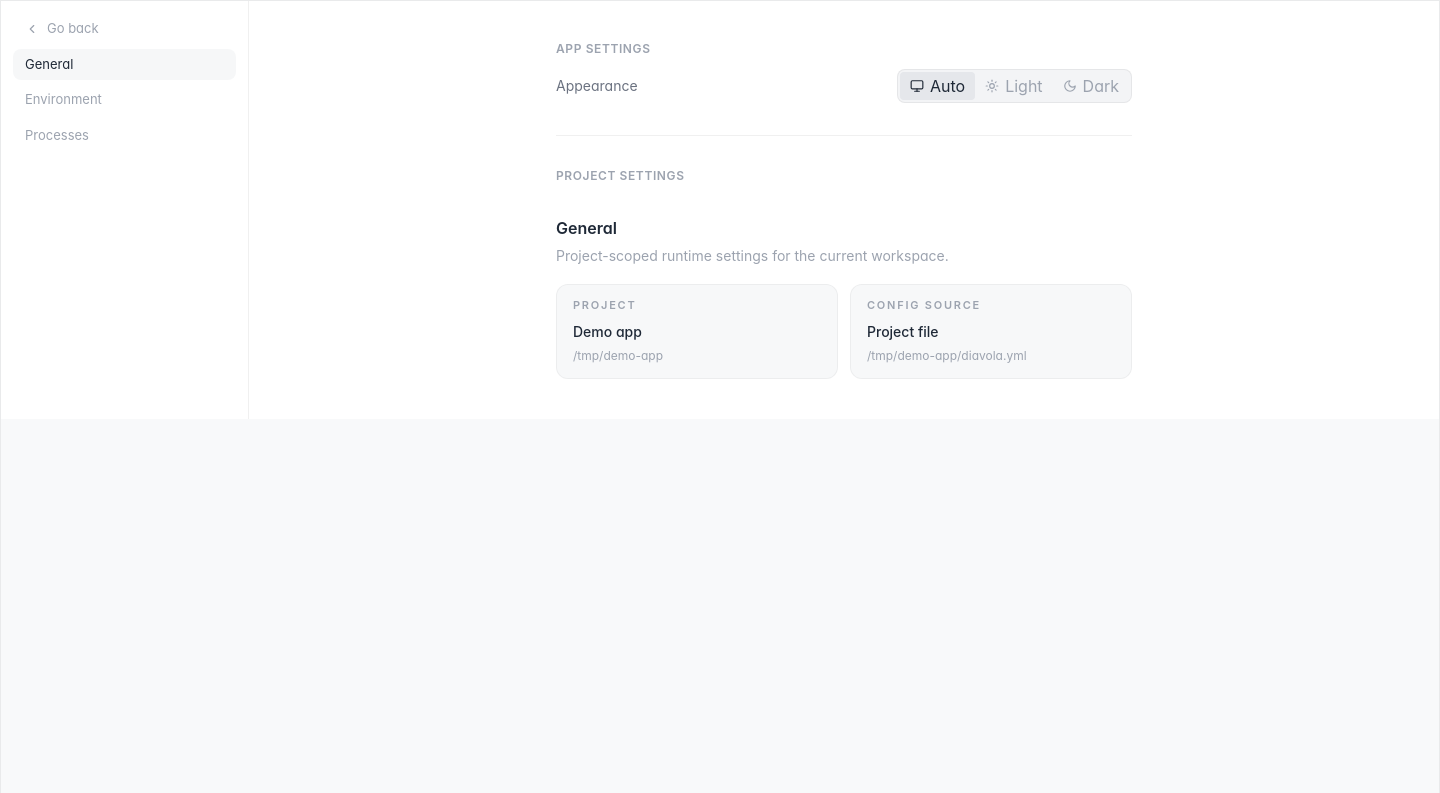
ConfigEditor › does not auto-save invalid runtime config changes
Expected: the heading "General" is shown, [556,218,617,238]
Click the link "Processes" at (57, 134), box [25,126,89,142]
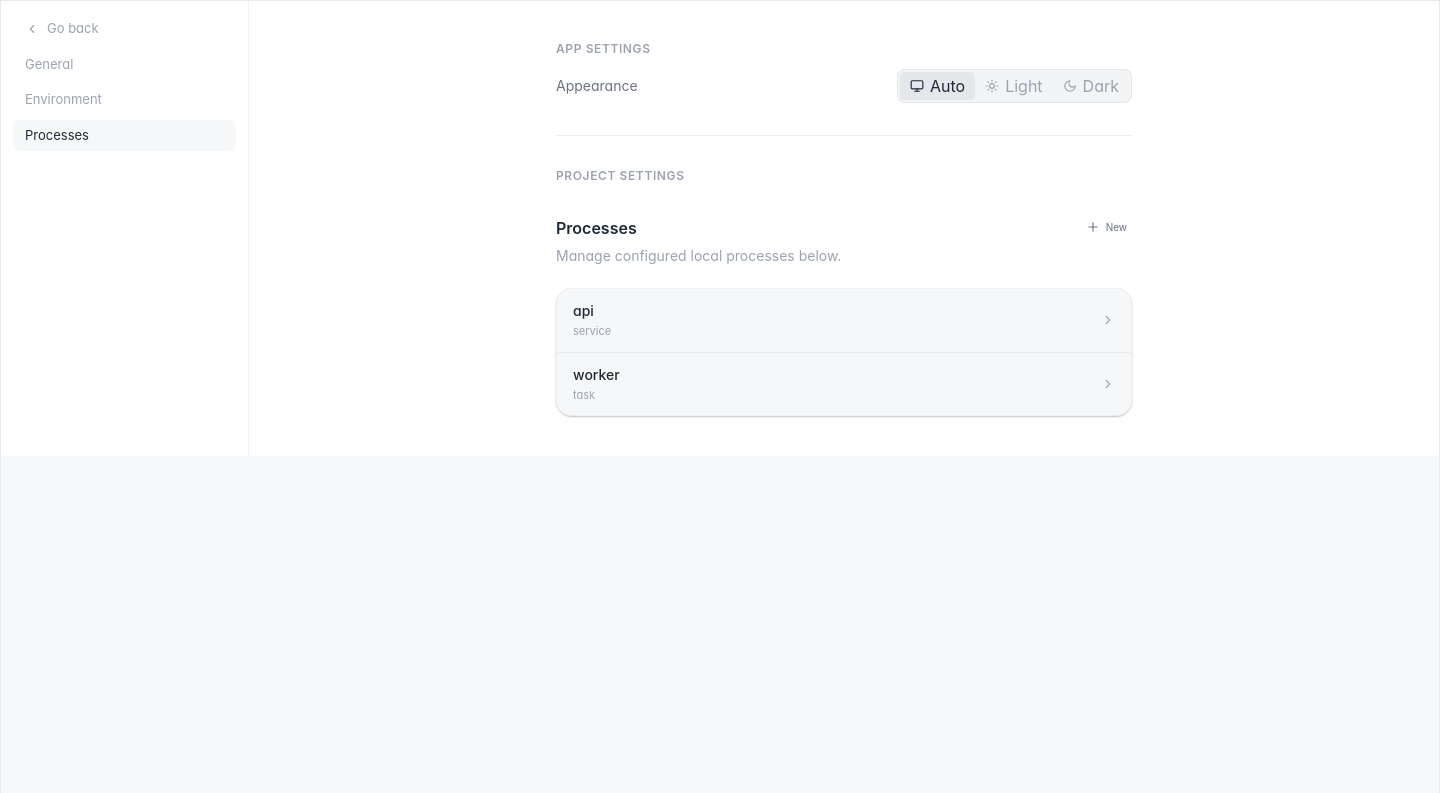
Click the button with aria-label "Open process worker (task)" at (596, 374), box [557,352,1131,415]
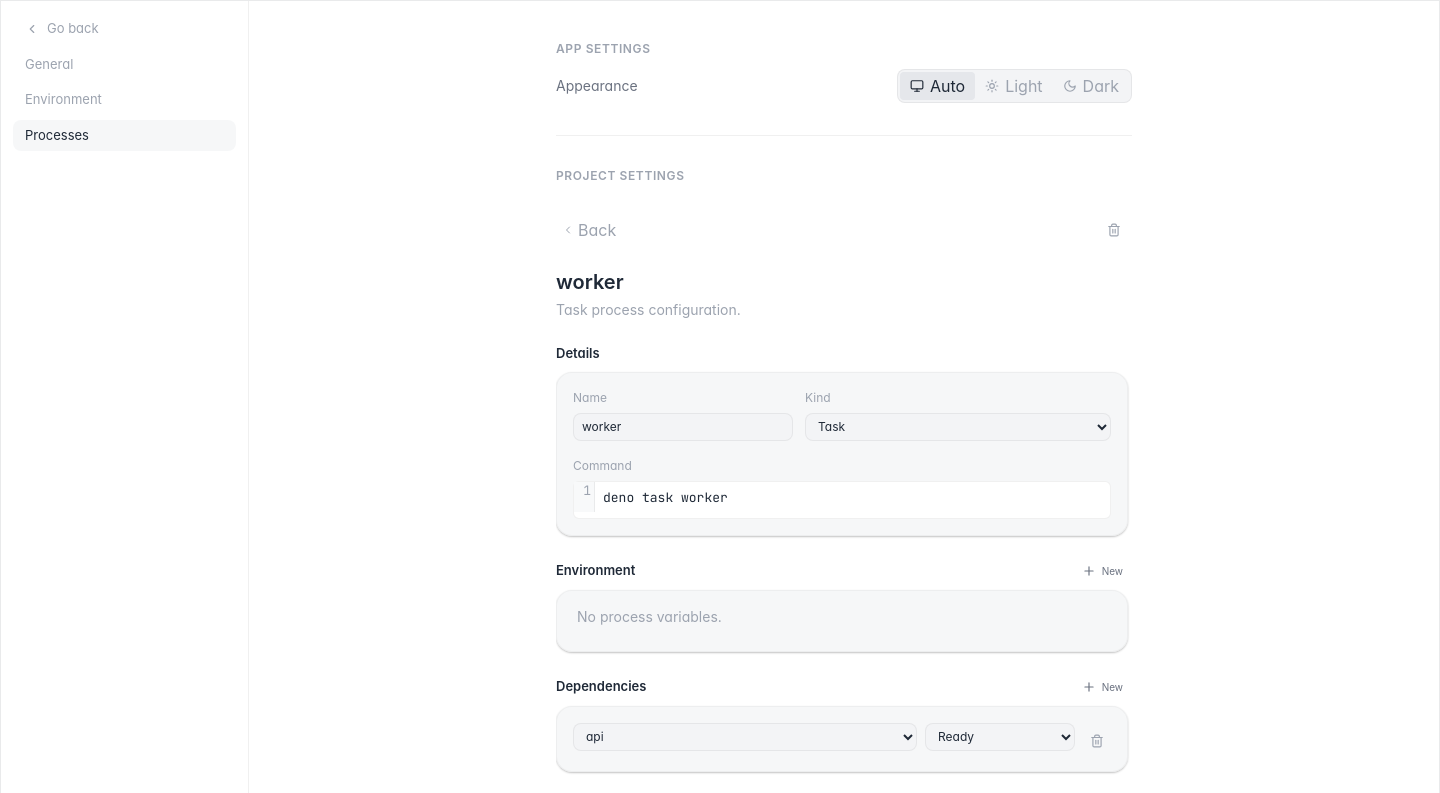
Result: the heading "worker" is shown at [556,270,624,294]
Replace the text in the field labelled "Name" with "api" at (683, 426), box [573,412,793,440]
Wait 400 ms
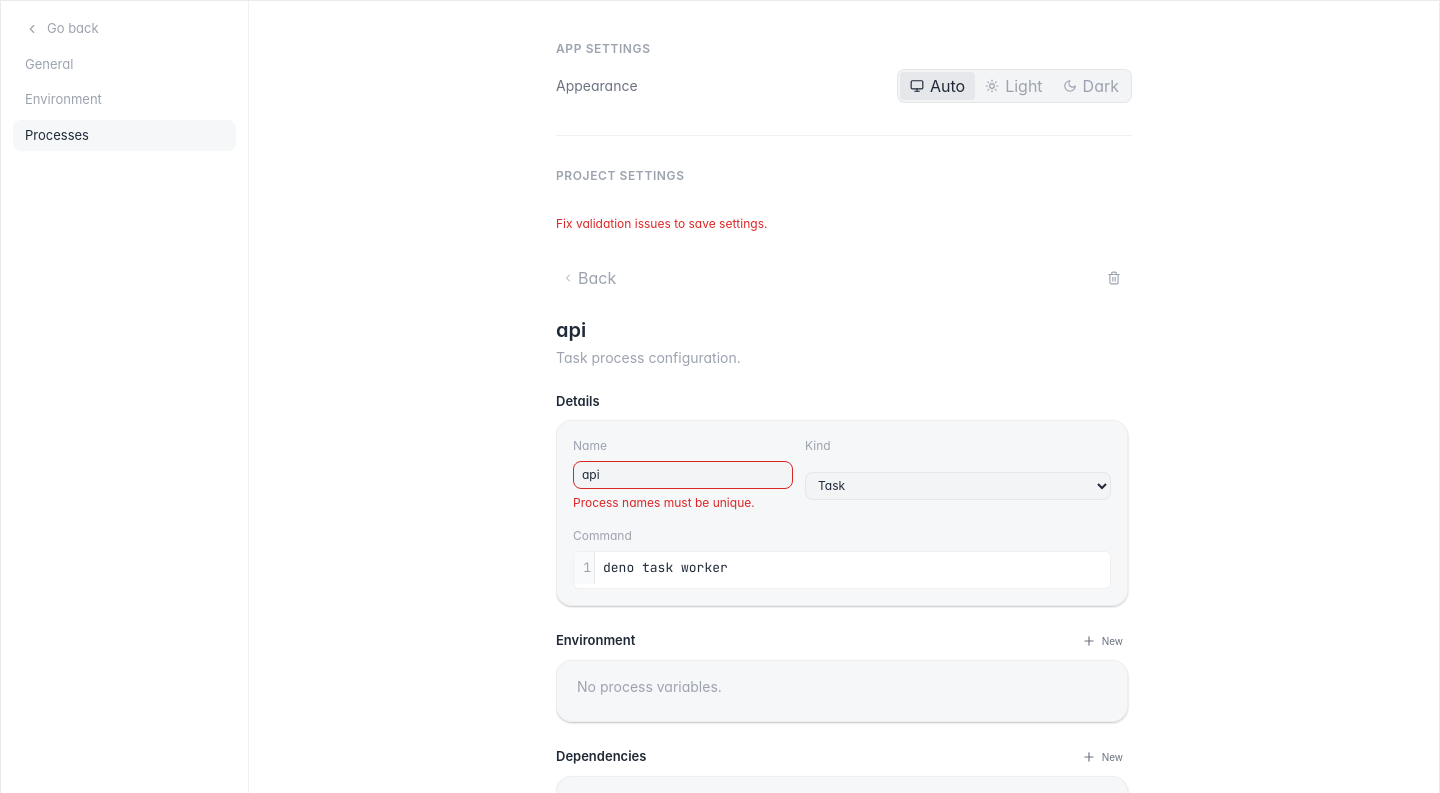
Result: the text "Process names must be unique." is shown at [573,494,755,510]
